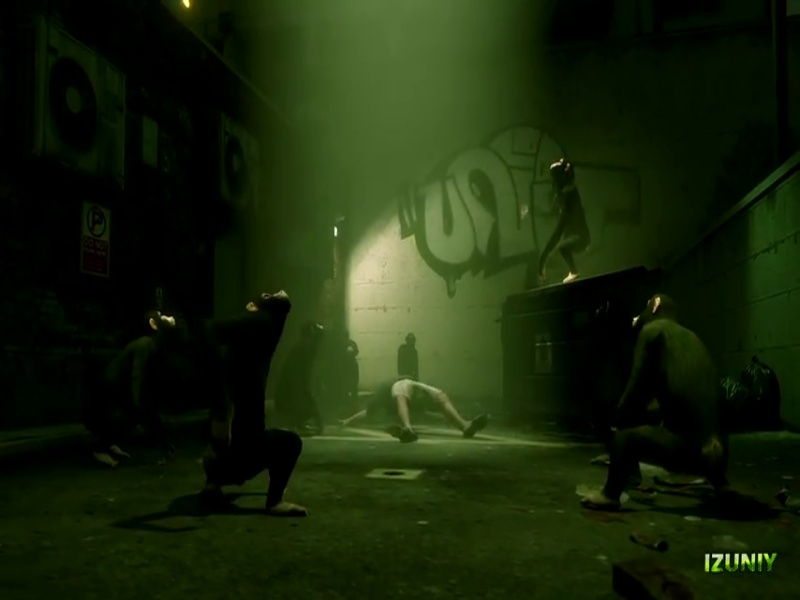licenseplate: (306, 127, 516, 290)
